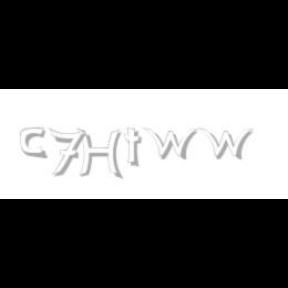7: (50, 128, 86, 178)
H: (77, 128, 123, 180)
c: (20, 128, 48, 160)
t: (124, 128, 146, 168)
w: (198, 128, 258, 160), (144, 128, 202, 160)
